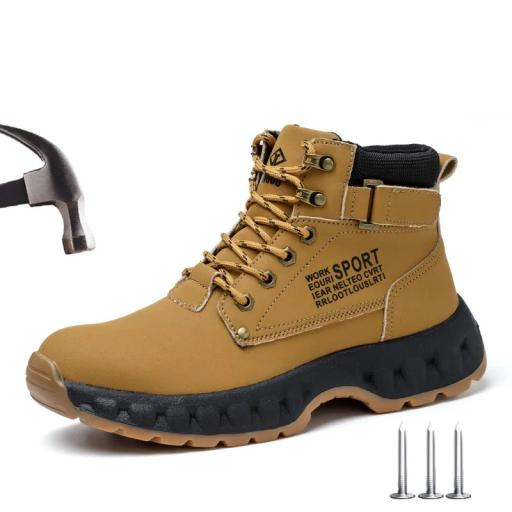safety_boots: (5, 226, 512, 446)
